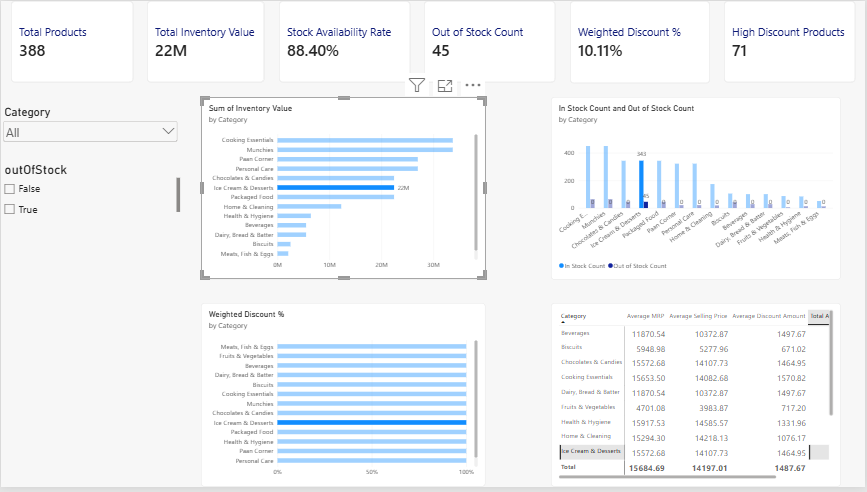

The page's visual inventory and layout, read from the dashboard file:
{"tool":"powerbi","page":{"name":"Page 1","canvas":[1920,1080],"ordinal":0},"visuals":[{"type":"cardVisual","fields":{"Data":["Measures (3).Total Products"]},"box":[22,0,272,181.3],"z":0,"group":"g1"},{"type":"cardVisual","fields":{"Data":["Measures (3).Total Inventory Value"]},"box":[325.1,0,260.7,181.3],"z":1000,"group":"g1"},{"type":"cardVisual","fields":{"Data":["Measures (3).Stock Availability Rate"]},"box":[616.9,0,292,181.3],"z":2000,"group":"g1"},{"type":"cardVisual","fields":{"Data":["Measures (3).Out of Stock Count"]},"box":[940,0,292.4,181.3],"z":3000,"group":"g1"},{"type":"cardVisual","fields":{"Data":["Measures (3).Weighted Discount %"]},"box":[1263.5,0,311,183],"z":4000,"group":"g1"},{"type":"cardVisual","fields":{"Data":["Measures (3).High Discount Products"]},"box":[1605.6,0,292.4,181.3],"z":5000,"group":"g1"},{"type":"slicer","fields":{"Values":["Sheet1.Category"]},"box":[0,231.2,396.7,120.1],"z":6000},{"type":"slicer","fields":{"Values":["Sheet1.outOfStock"]},"box":[0,783.3,198,181],"z":7000},{"type":"barChart","fields":{"Category":["Sheet1.Category"],"Y":["Sum(Sheet1.Inventory Value)"]},"box":[444.3,213.1,632.4,405.8],"z":8000},{"type":"clusteredColumnChart","fields":{"Category":["Sheet1.Category"],"Y":["Measures (3).In Stock Count","Measures (3).Out of Stock Count"]},"box":[1221.8,213.1,643.8,405.8],"z":9000},{"type":"hundredPercentStackedBarChart","fields":{"Category":["Sheet1.Category"],"Y":["Measures (3).Weighted Discount %"]},"box":[444.3,671,632.4,408],"z":10000},{"type":"pivotTable","fields":{"Rows":["Sheet1.Category"],"Values":["Measures (3).Average MRP","Measures (3).Average Selling Price","Measures (3).Average Discount Amount","Measures (3).Total Available Quantity"]},"box":[1221.8,671,643.8,408],"z":11000},{"type":"group","id":"g1","title":"Group 1","box":[22,0,1876,183],"z":11001}]}

Visuals, with their boxes in screenshot pixels (x1, y1, x2, y2), scaled from the page's 1920x1080 canvas onto the 867x492 screenshot:
cardVisual - Measures (3).Total Products: 10 0 133 83
cardVisual - Measures (3).Total Inventory Value: 147 0 265 83
cardVisual - Measures (3).Stock Availability Rate: 279 0 410 83
cardVisual - Measures (3).Out of Stock Count: 424 0 557 83
cardVisual - Measures (3).Weighted Discount %: 571 0 711 83
cardVisual - Measures (3).High Discount Products: 725 0 857 83
slicer - Sheet1.Category: 0 105 179 160
slicer - Sheet1.outOfStock: 0 357 89 439
barChart - Sheet1.Category x Sum(Sheet1.Inventory Value): 201 97 486 282
clusteredColumnChart - Sheet1.Category x Measures (3).In Stock Count: 552 97 842 282
hundredPercentStackedBarChart - Sheet1.Category x Measures (3).Weighted Discount %: 201 306 486 491
pivotTable - Sheet1.Category x Measures (3).Average MRP: 552 306 842 491
"Group 1" group: 10 0 857 83
